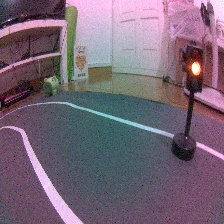amber: (168, 39, 206, 162)
